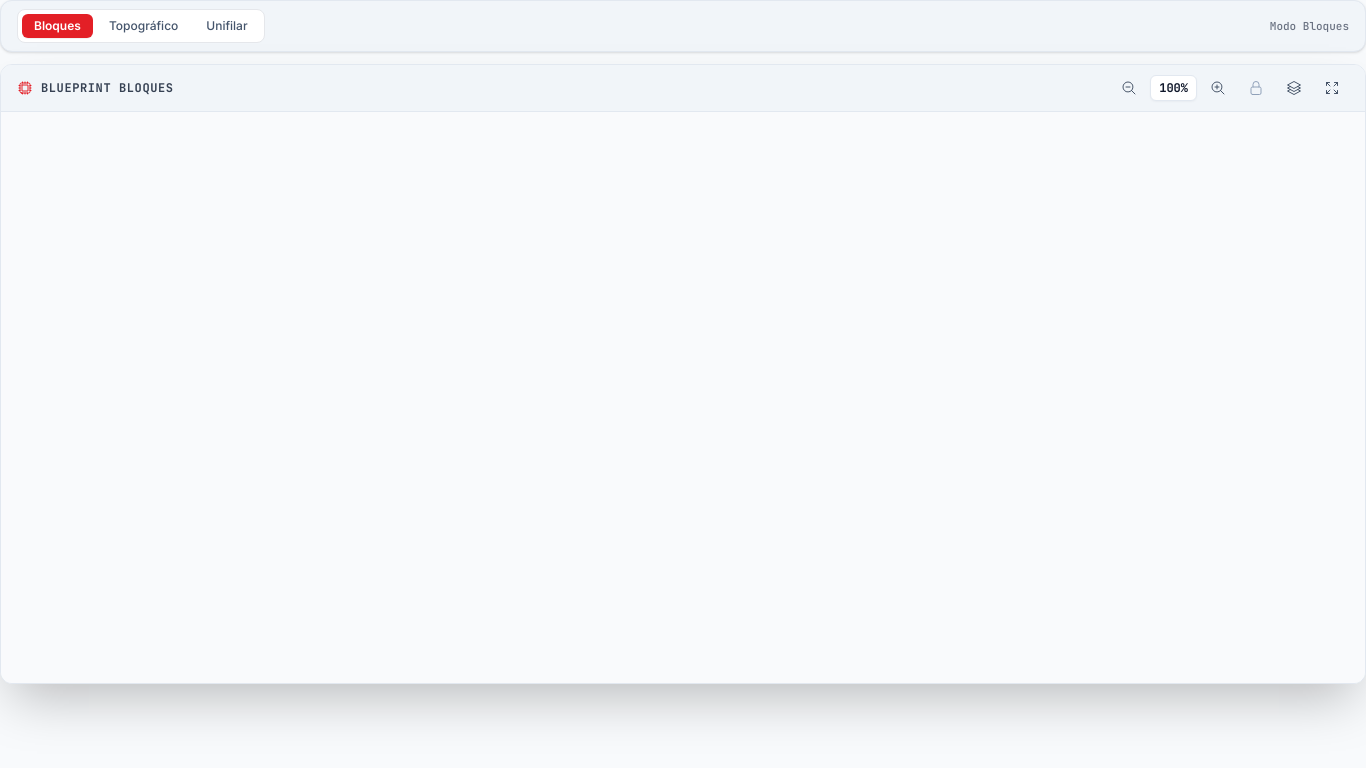
it: EsquemaVisualCanvas › opens full-screen modal when clicking fullscreen button
Click the button named "pantalla completa" at point(1332, 88), box [1315,75,1349,101]
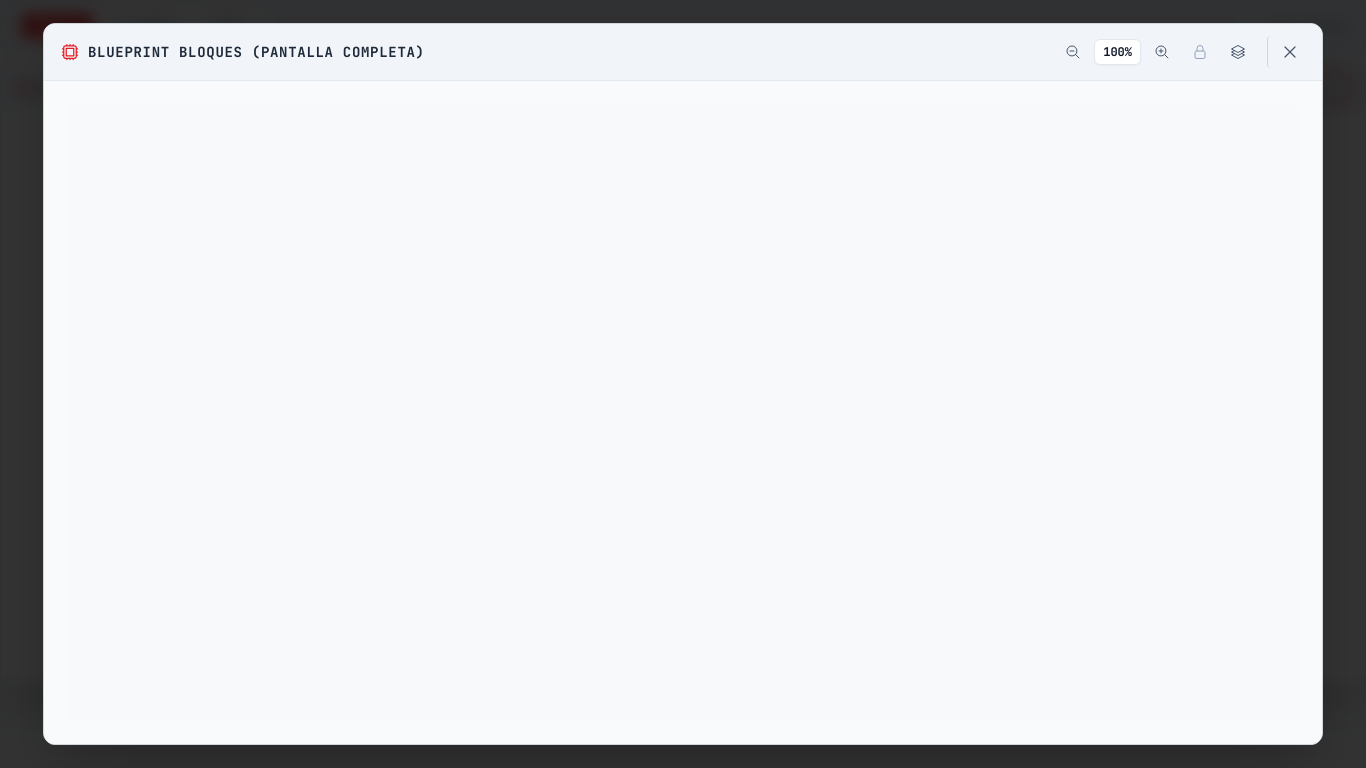
Result: the text "Blueprint Bloques (Pantalla Completa)" is shown at [60,42,425,62]
